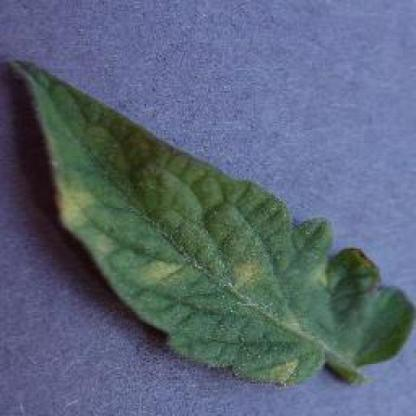Tomato_Leaf_Mold: (14, 55, 409, 386)
